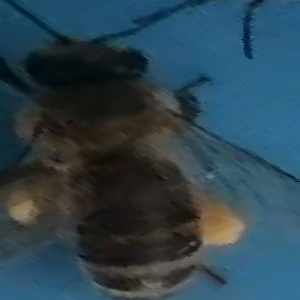bee: (3, 12, 262, 300)
